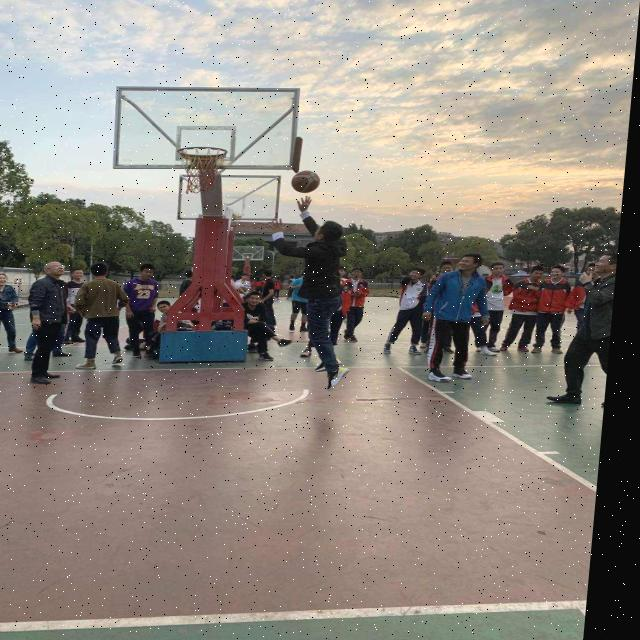basketball: (290, 170, 322, 193)
hoop: (173, 146, 229, 194)
